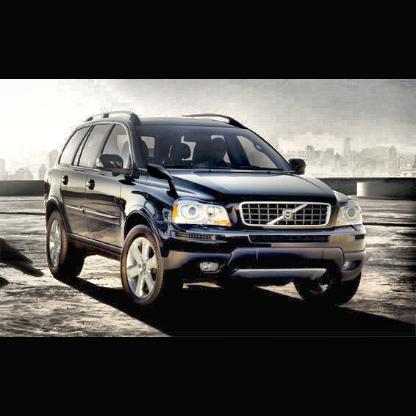Volvo XC90 SUV 2007: (46, 113, 368, 313)
